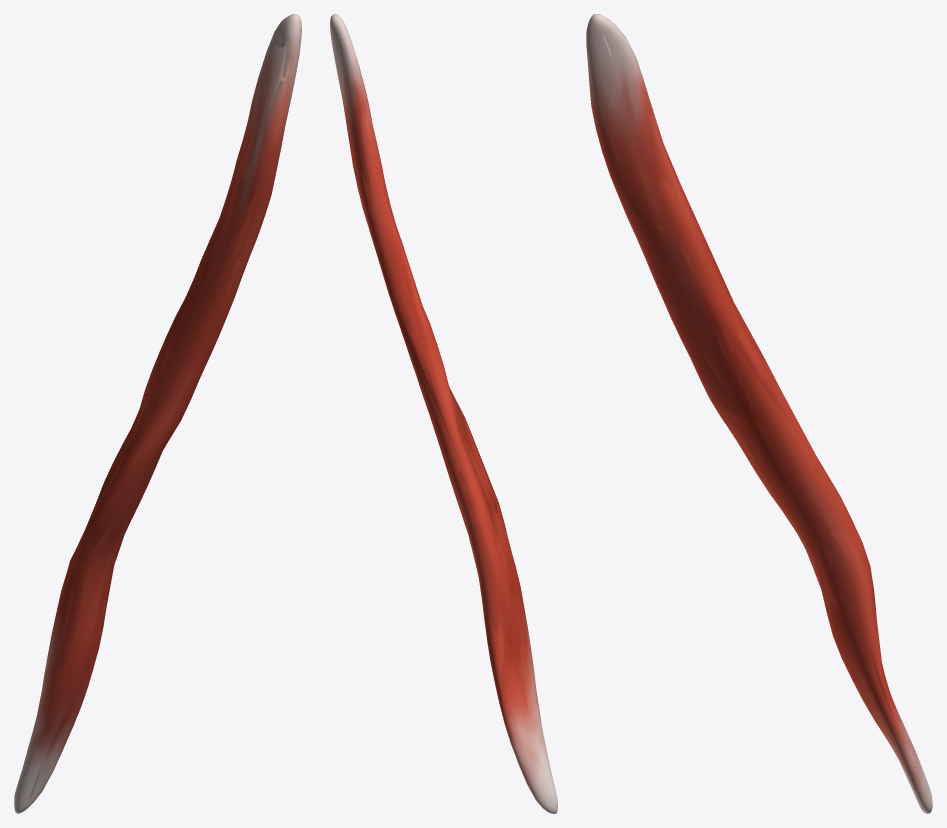
File: L Sternocephalicus.fbx
3 renders of one model, left to right at view 1: azimuth 30°, elevation 25°; view 2: azimuth 210°, elevation 25°; view 3: azimuth 270°, elevation 25°, orthographic. The views are drawn at different scales.
Visible parts, largest first — view 1: L Sternocephalicus, L Sternocephalicus low; view 2: L Sternocephalicus, L Sternocephalicus low; view 3: L Sternocephalicus, L Sternocephalicus low.
Part boxes in pixels (box(x1,y1,x2,y2)): L Sternocephalicus: box(14, 14, 301, 813); L Sternocephalicus low: box(17, 35, 290, 802); L Sternocephalicus: box(330, 14, 557, 813); L Sternocephalicus low: box(333, 33, 549, 772); L Sternocephalicus: box(586, 14, 932, 813); L Sternocephalicus low: box(603, 35, 915, 796).
Size of the model in its own units: 8.29 by 65.02 by 24.16.
